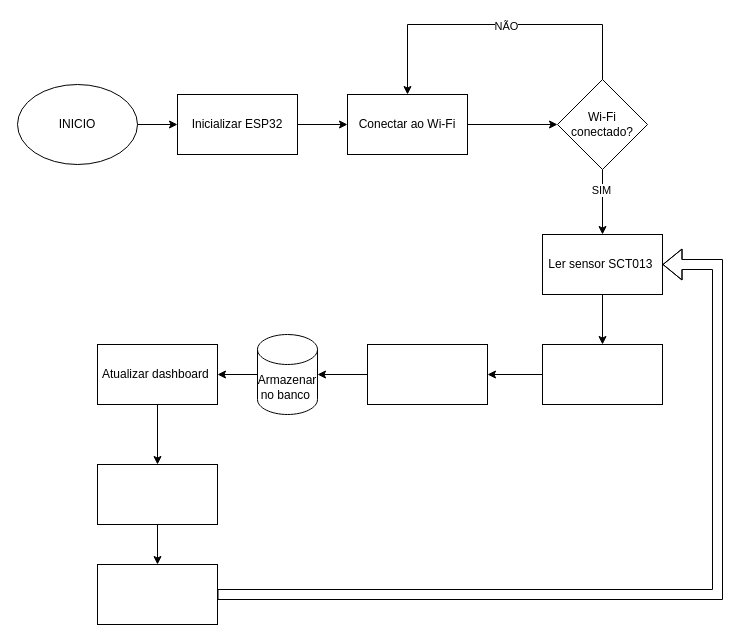
The diagram is 740 pixels wide and 642 high, and some of its shapes have lost their labels. Each missing label, with the centre of its shape:
"Aguardar próximo ciclo" belongs at [157,594].
"Enviar dados via API" belongs at [427,374].
"Processa dados Corrente e potência" belongs at [602,374].
"Usuário visualiza informações" belongs at [157,494].
